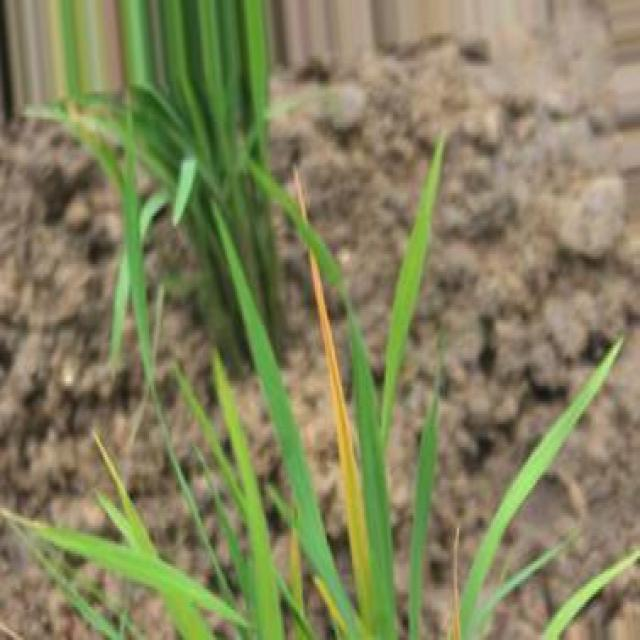Rice Tungro: (311, 251, 371, 629)
